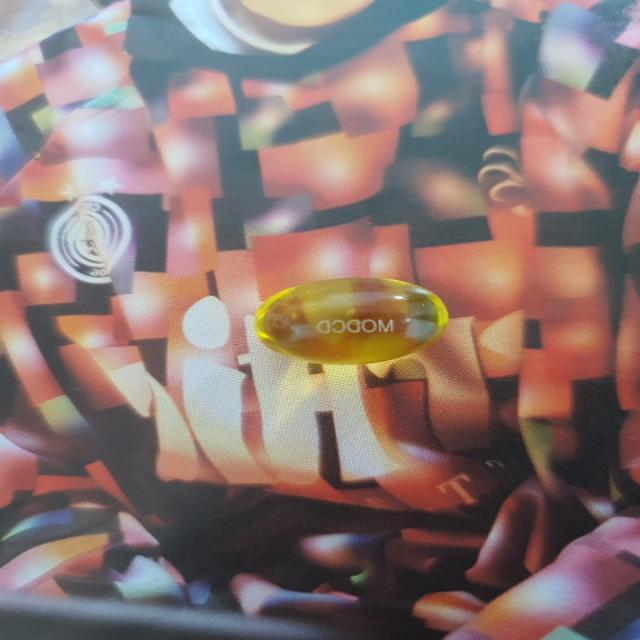pill: (244, 266, 451, 374)
